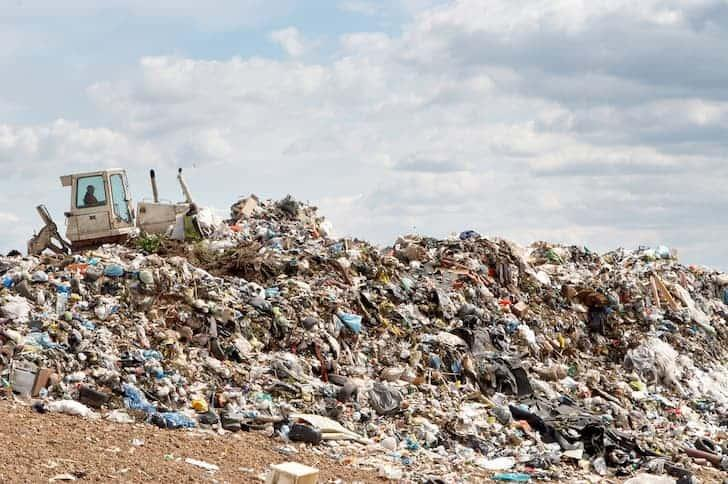garbage: (2, 190, 728, 484)
